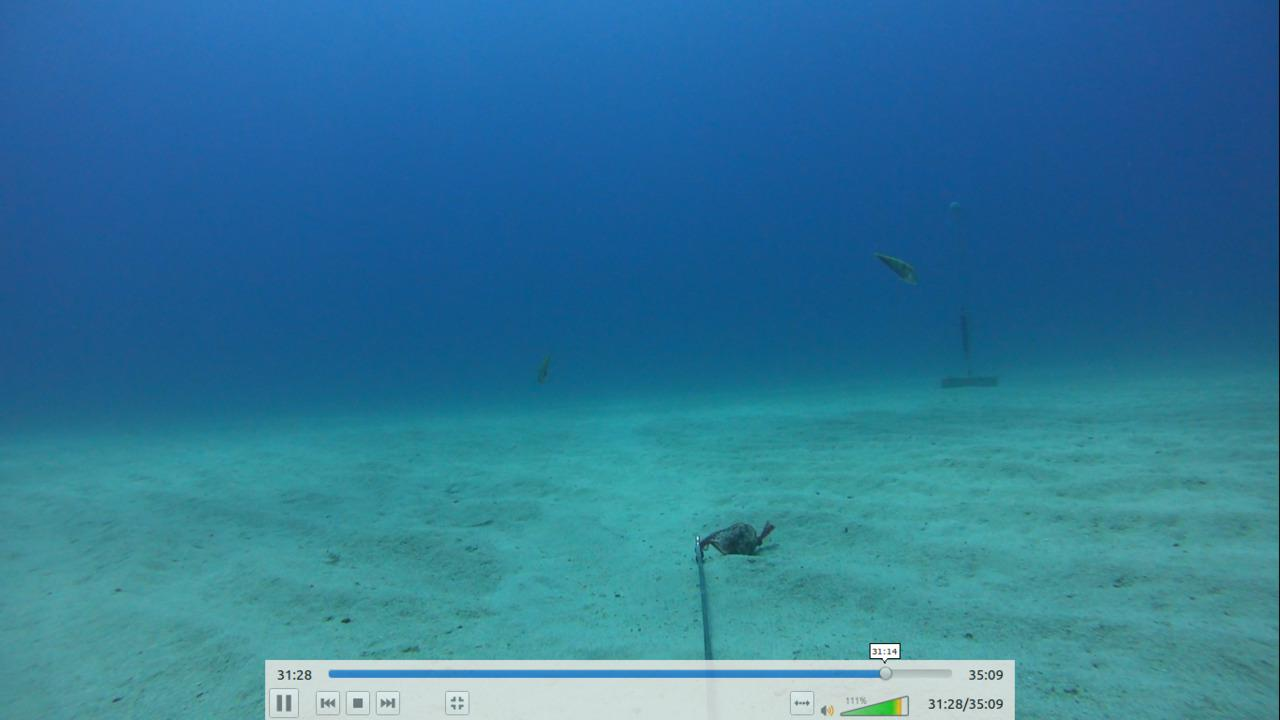raor: (865, 242, 924, 292)
